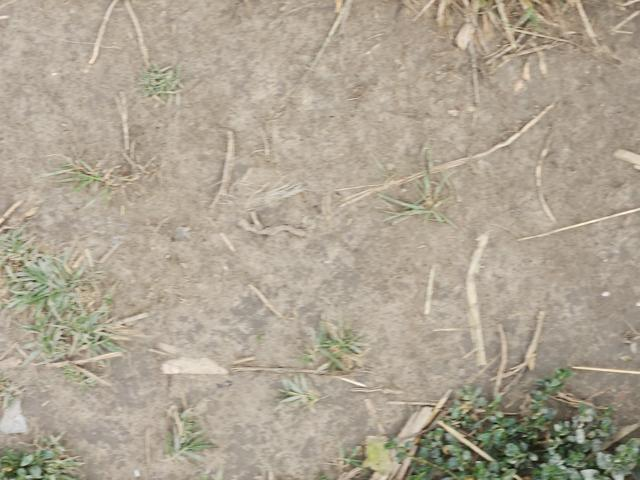bad weed: (413, 352, 640, 480), (0, 216, 138, 373), (418, 0, 632, 72), (243, 320, 390, 413), (32, 146, 142, 204), (126, 44, 211, 114), (384, 177, 465, 245), (0, 420, 84, 479), (149, 389, 208, 470)
